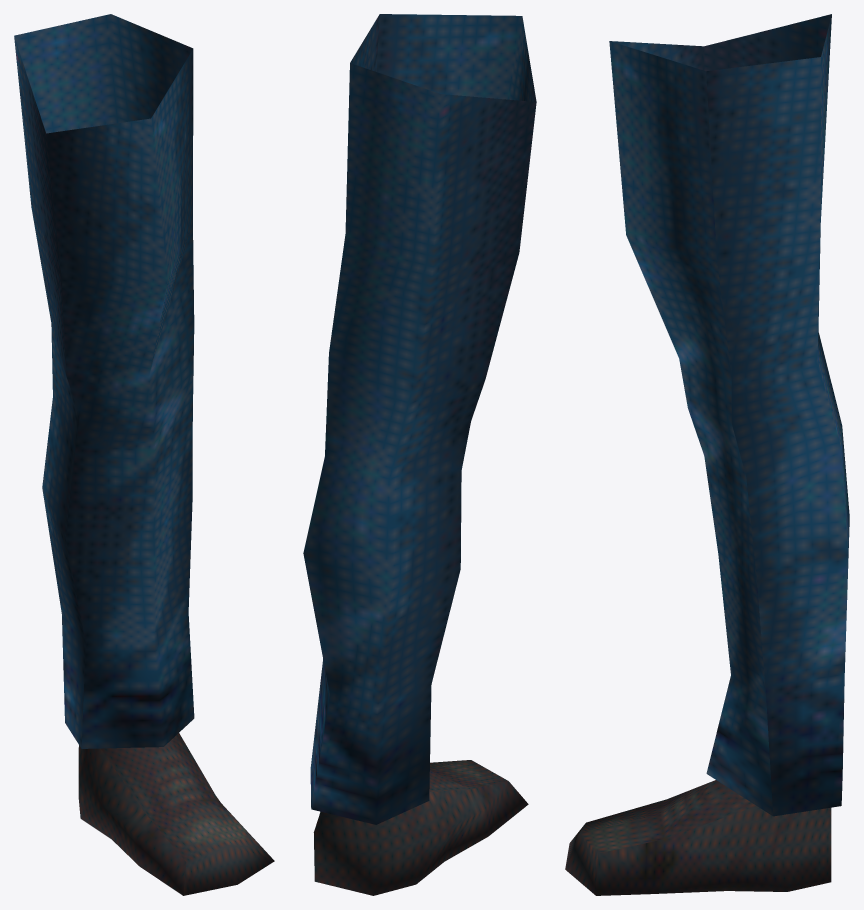
File: man_left_foot.obj
The picture shows the model from 3 angles, left to right: view 1: azimuth 30°, elevation 25°; view 2: azimuth 150°, elevation 25°; view 3: azimuth 270°, elevation 25°; orthographic projection. The views are drawn at different scales.
Parts seen in each view (by area): view 1: male_player.001; view 2: male_player.001; view 3: male_player.001.
Boxes of the visible parts, x1,y1,x2,y2 form: male_player.001: [14, 14, 274, 895]; male_player.001: [303, 14, 536, 895]; male_player.001: [565, 14, 849, 895].
Bounding box in the file's own units: 0.2253 × 0.9266 × 0.2948.
1 material, 1 textured.
